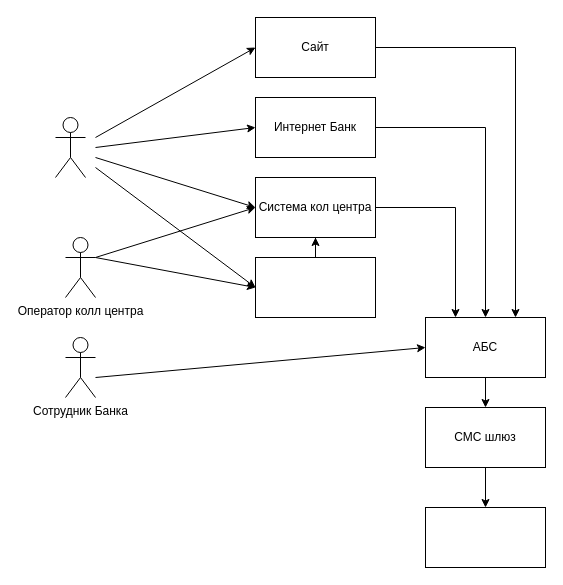
Some shapes in this 563 by 585 pixel diagram are drawn without their labels. Here are the shapes that lost their labels. From the top down, the centre of each, then its label:
At point 70,147: "Клиент".
At point 315,287: "Система партнерского кол центра".
At point 485,537: "Телеком оператор".
